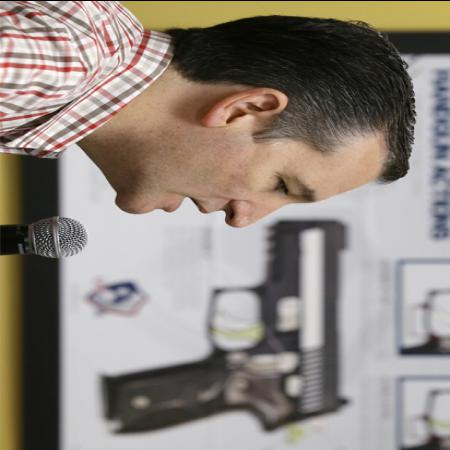Pistol: (105, 218, 347, 440)
